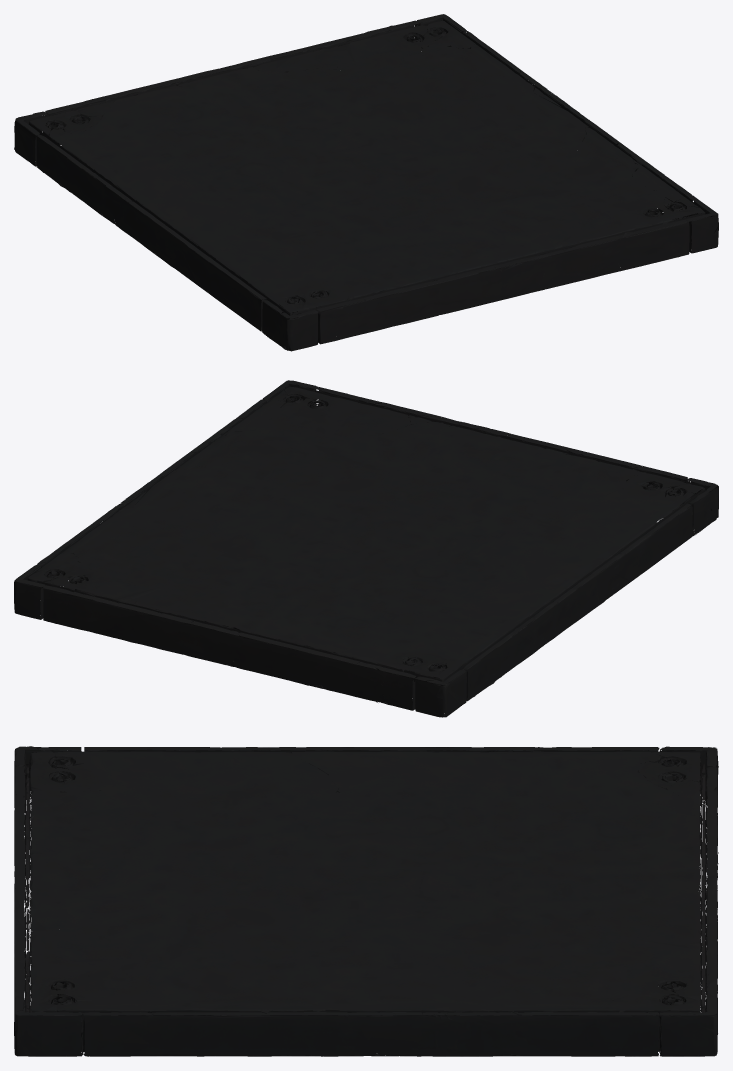
3 renders of one model, top to bottom at view 1: azimuth 30°, elevation 25°; view 2: azimuth 150°, elevation 25°; view 3: azimuth 270°, elevation 25°, orthographic. The views are drawn at different scales.
Visible parts, largest first — view 1: M04_M04_Hyper3D_original_uniform_only; view 2: M04_M04_Hyper3D_original_uniform_only; view 3: M04_M04_Hyper3D_original_uniform_only.
Part boxes in pixels (x1=…): M04_M04_Hyper3D_original_uniform_only: x1=14, y1=14, x2=718, y2=351; M04_M04_Hyper3D_original_uniform_only: x1=14, y1=380, x2=718, y2=717; M04_M04_Hyper3D_original_uniform_only: x1=14, y1=746, x2=718, y2=1056.
Size of the model in its own units: 1.81 by 0.149 by 2.
1 material, 1 textured.
